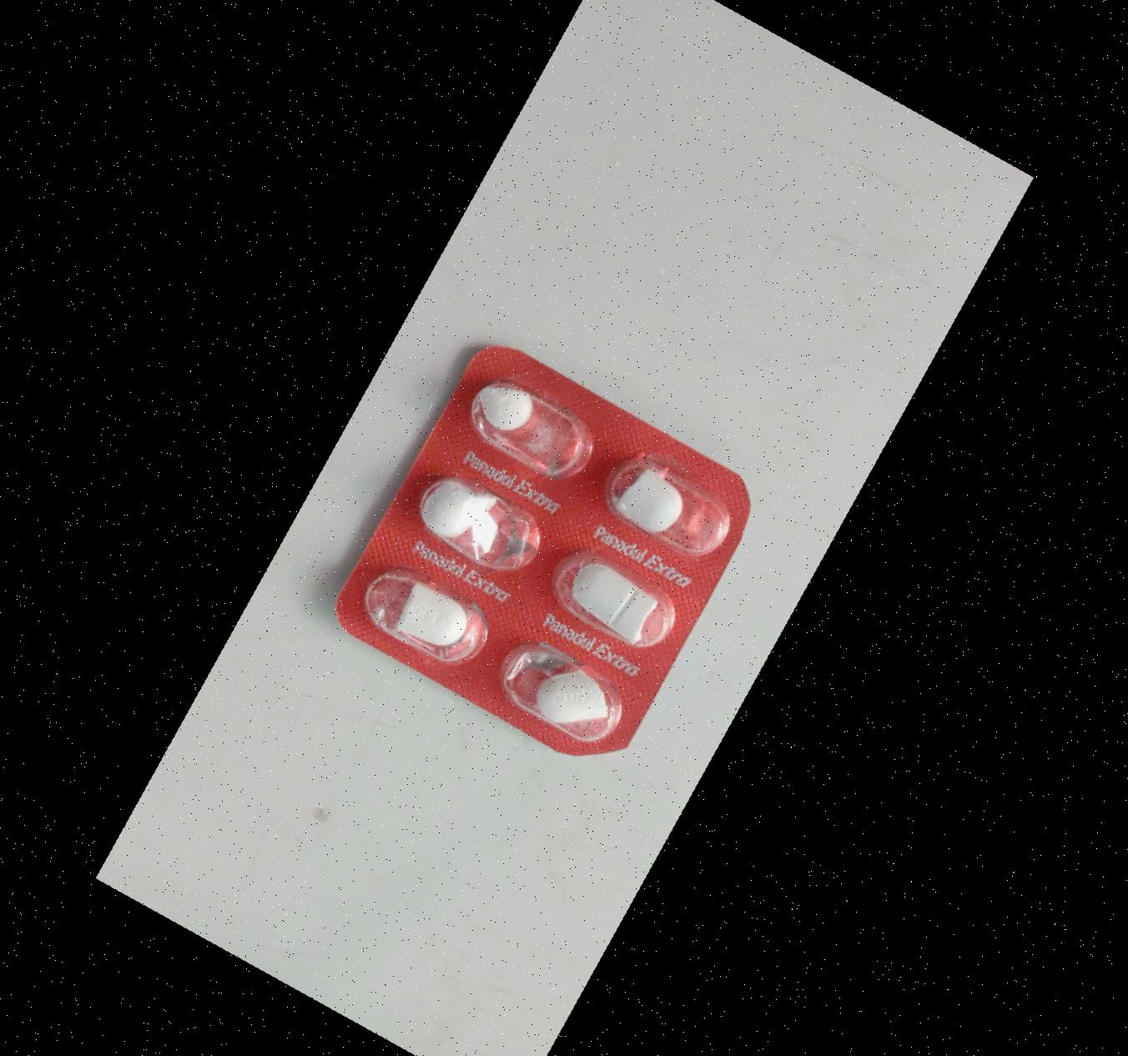Partial: (347, 544, 499, 679), (405, 461, 557, 596), (534, 544, 686, 679), (585, 445, 737, 580), (456, 362, 608, 497), (481, 633, 633, 768)
